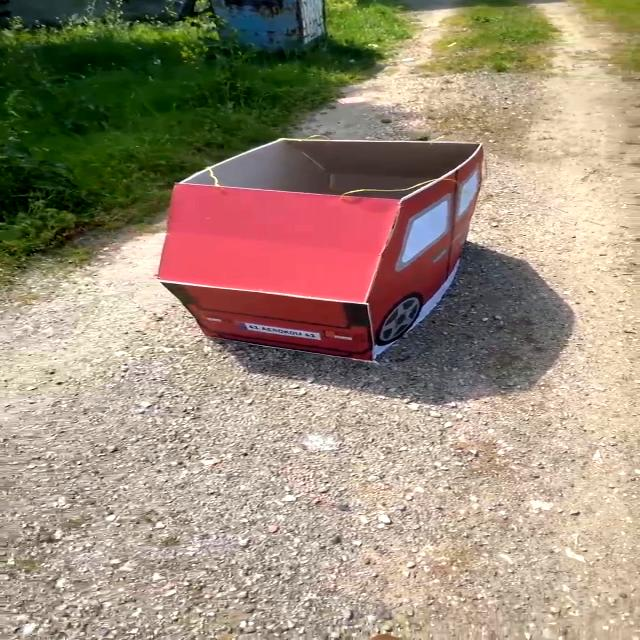red_car: (88, 112, 546, 368)
